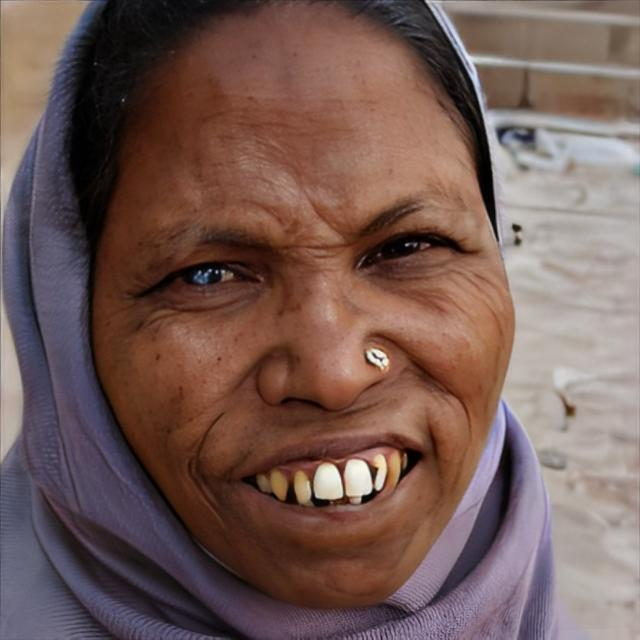disgust: (89, 0, 515, 611)
